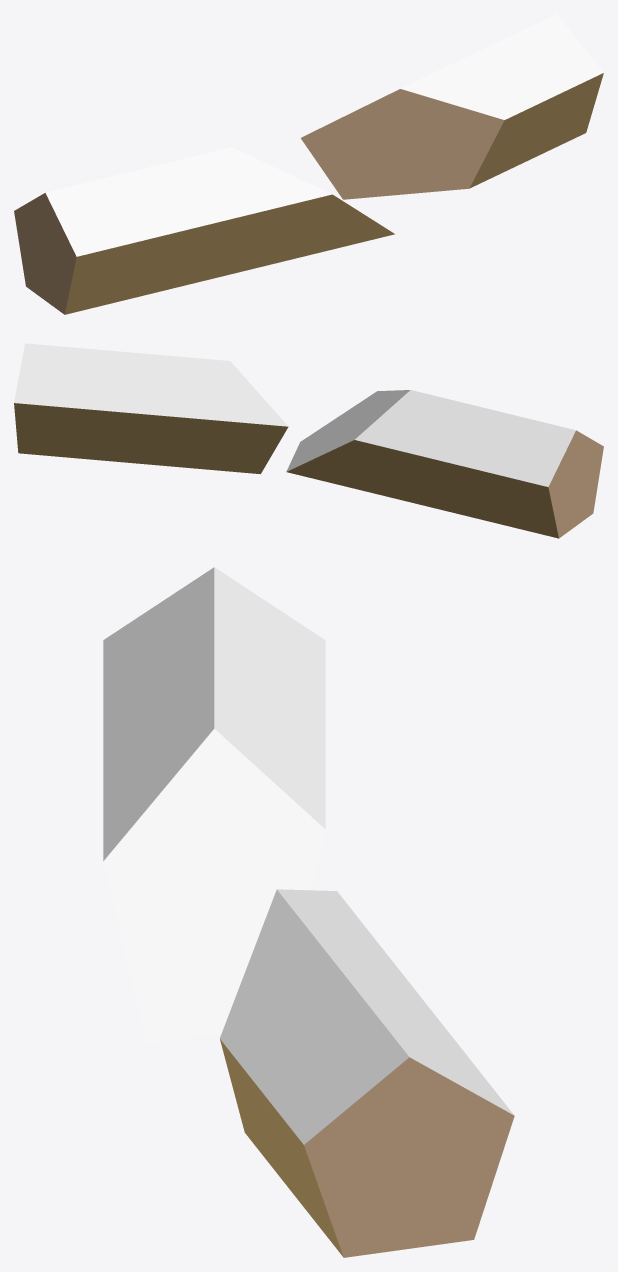
The model's file is Simple_Firewood_Snow_04.fbx.
The picture shows the model from 3 angles, top to bottom: view 1: azimuth 30°, elevation 25°; view 2: azimuth 150°, elevation 25°; view 3: azimuth 270°, elevation 25°; orthographic projection. The views are drawn at different scales.
Parts seen in each view (by area): view 1: Simple_Firewood_Snow_04; view 2: Simple_Firewood_Snow_04; view 3: Simple_Firewood_Snow_04.
Part boxes in pixels (bbox=[...]): Simple_Firewood_Snow_04: bbox=[14, 14, 603, 314]; Simple_Firewood_Snow_04: bbox=[14, 343, 603, 538]; Simple_Firewood_Snow_04: bbox=[103, 567, 514, 1257].
Bounding box in the file's own units: 71.01 × 12.57 × 24.44.
